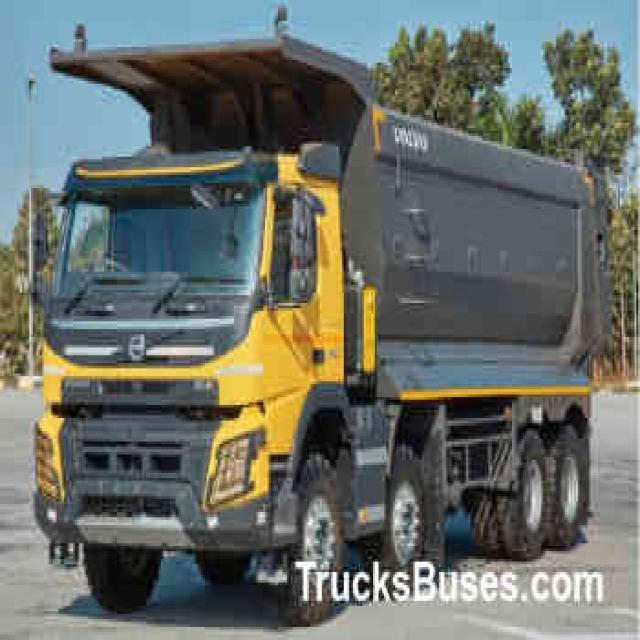dump_truck: (24, 17, 614, 621)
